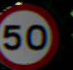Speed limit: (0, 6, 58, 65)
